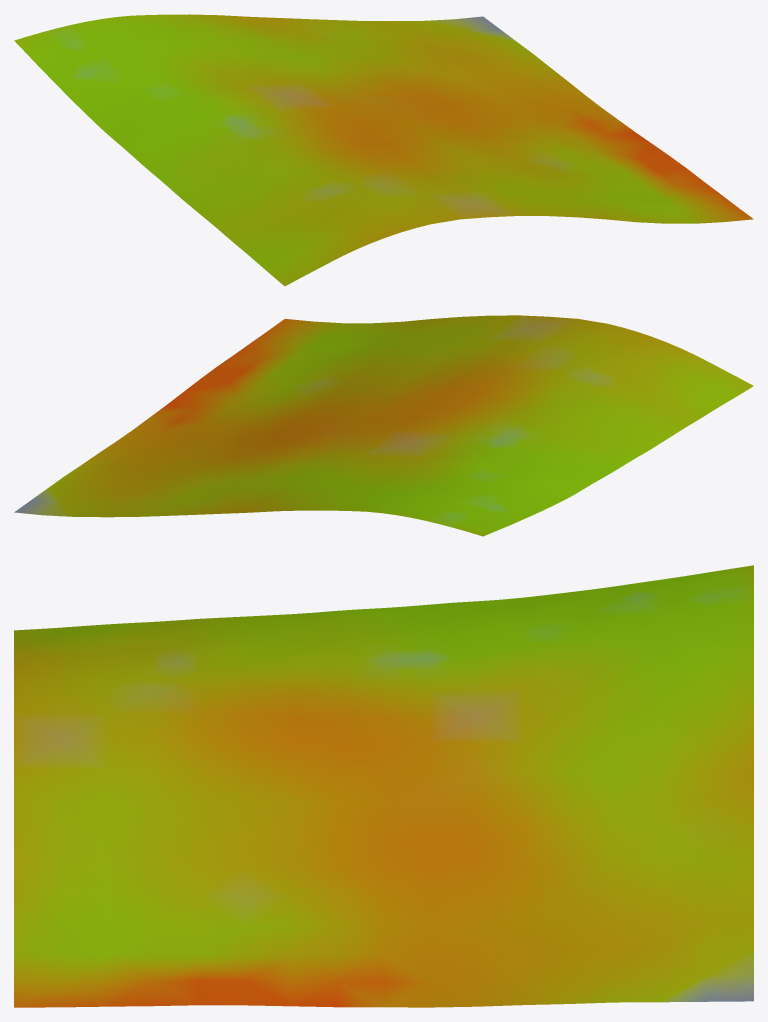
File: SM_BM_BT_Terrain_7_4.glb
3 views of the same model, one above another, from view 1: azimuth 30°, elevation 25°; view 2: azimuth 150°, elevation 25°; view 3: azimuth 270°, elevation 25° (orthographic). The views are drawn at different scales.
Parts seen in each view (by area): view 1: SM_BM_BT_Terrain_7_4; view 2: SM_BM_BT_Terrain_7_4; view 3: SM_BM_BT_Terrain_7_4.
Part boxes in pixels (<box>): SM_BM_BT_Terrain_7_4: <box>14,14,753,286</box>; SM_BM_BT_Terrain_7_4: <box>14,315,753,536</box>; SM_BM_BT_Terrain_7_4: <box>14,565,753,1007</box>.
Bounding box in the file's own units: 256 × 50.43 × 256.
